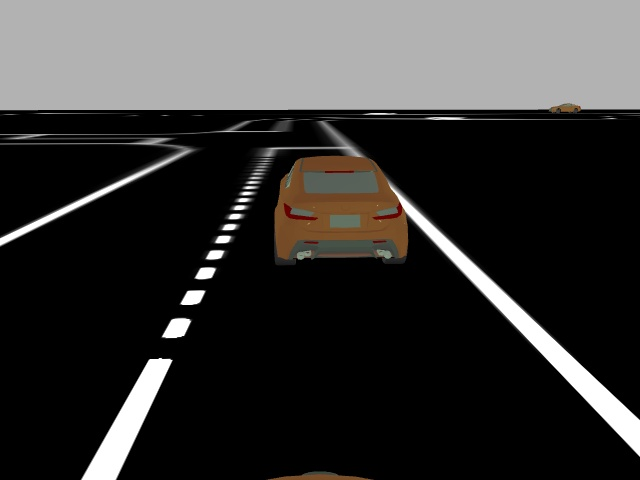obstacle_car: (271, 154, 411, 270)
